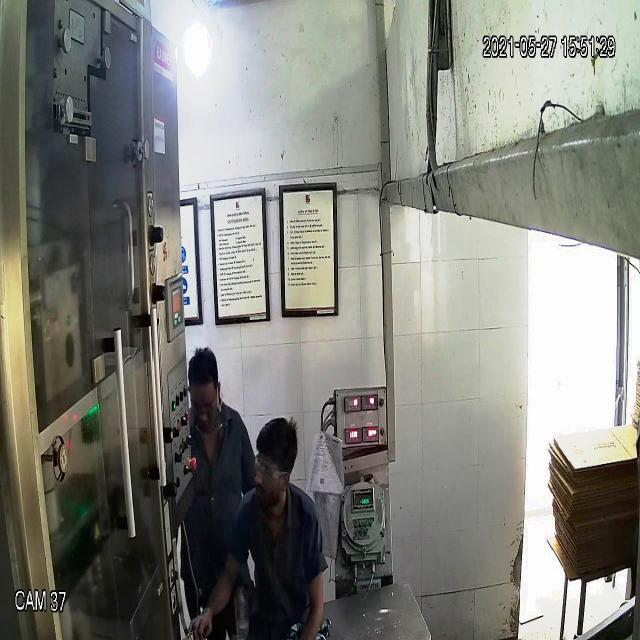glasses: (250, 452, 296, 487)
